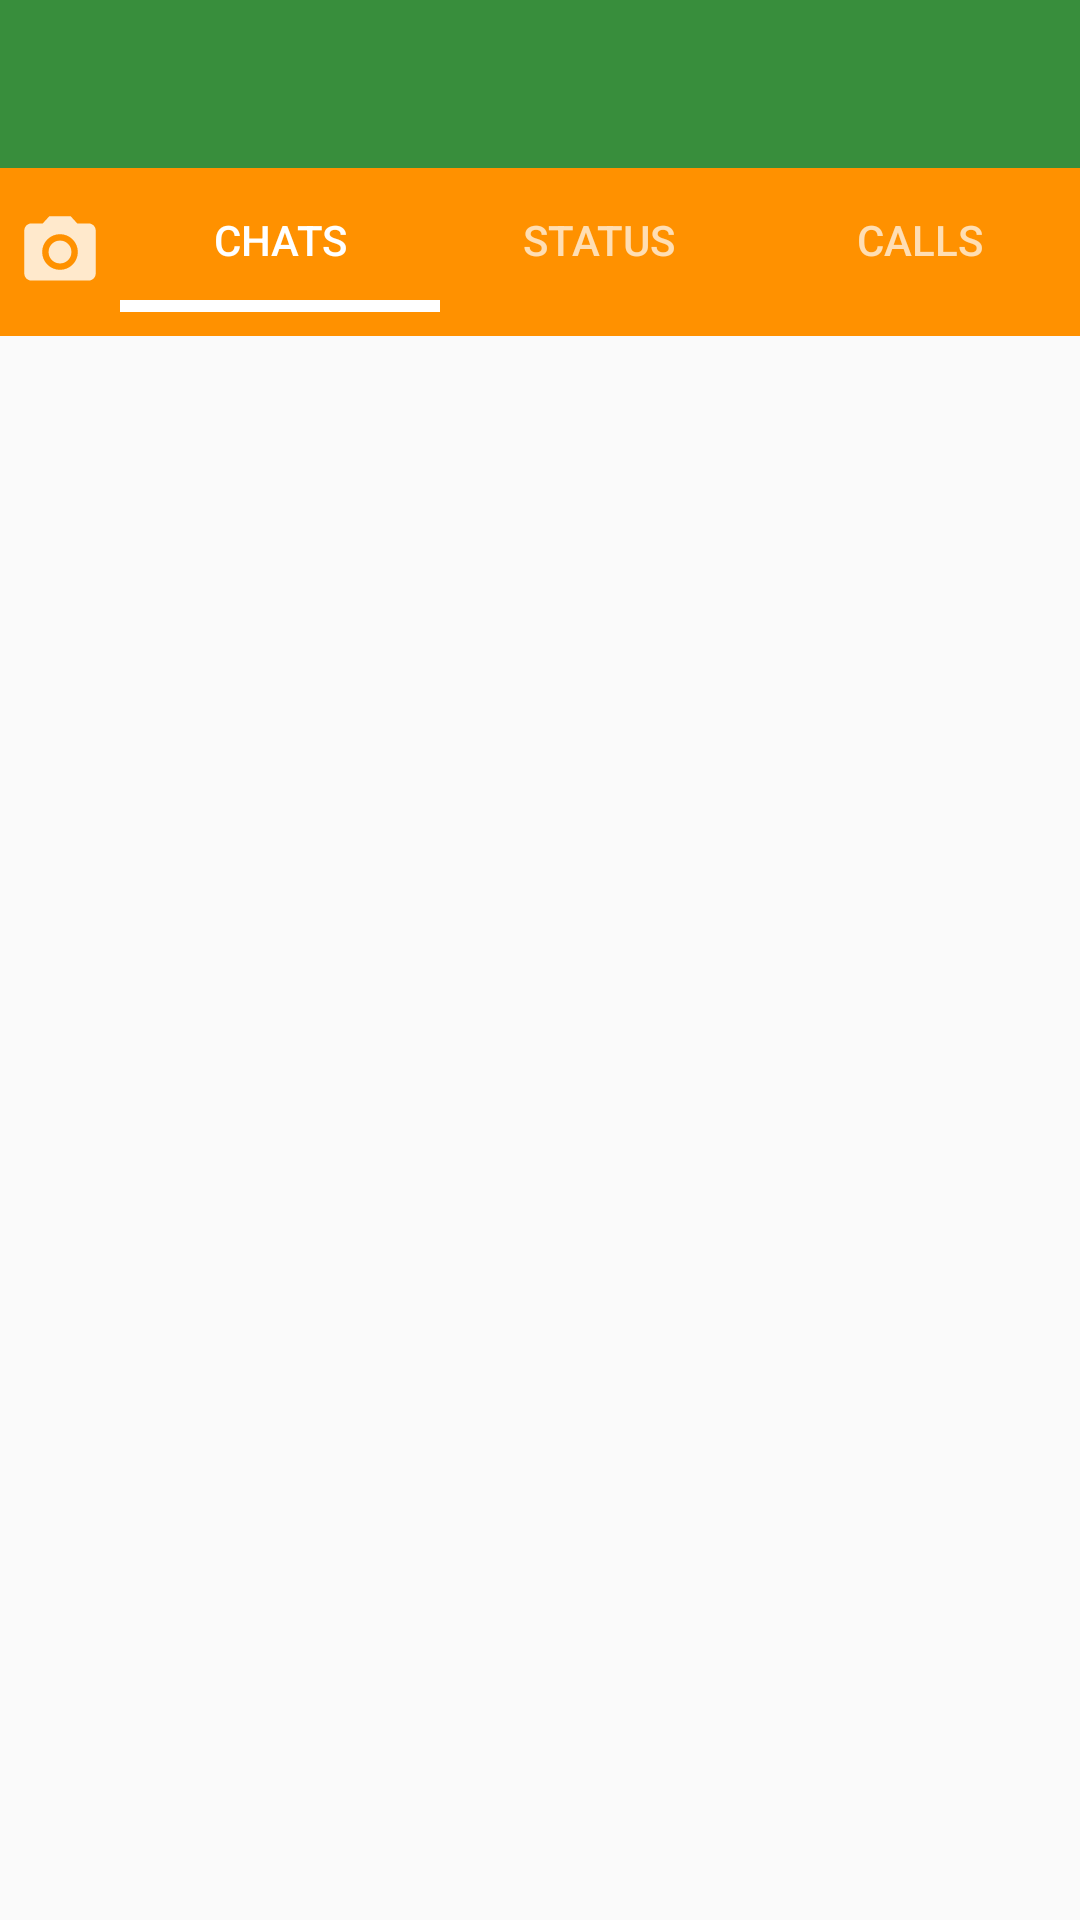

Icon click points for this 1080 × 1920 phone screenshot, format point (x, y):
Opens System Camera: point (60, 248)
